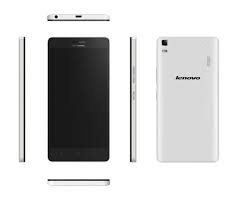lenovo: (151, 32, 222, 166), (44, 33, 115, 167)
